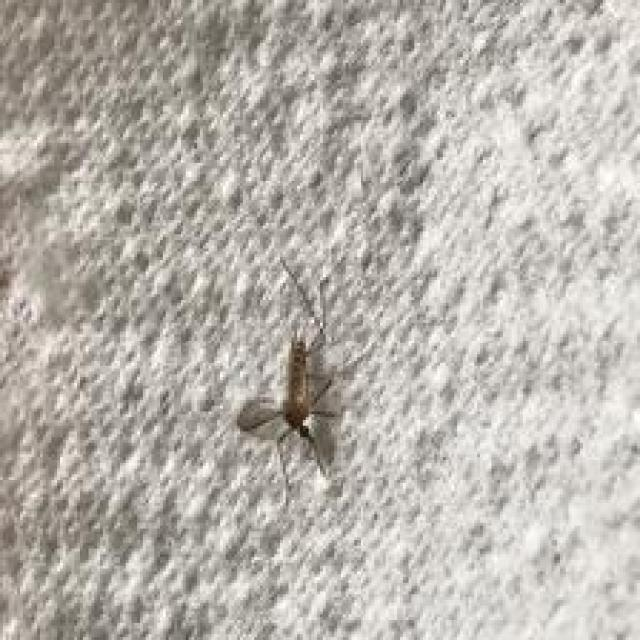Culex: (235, 257, 352, 503)
